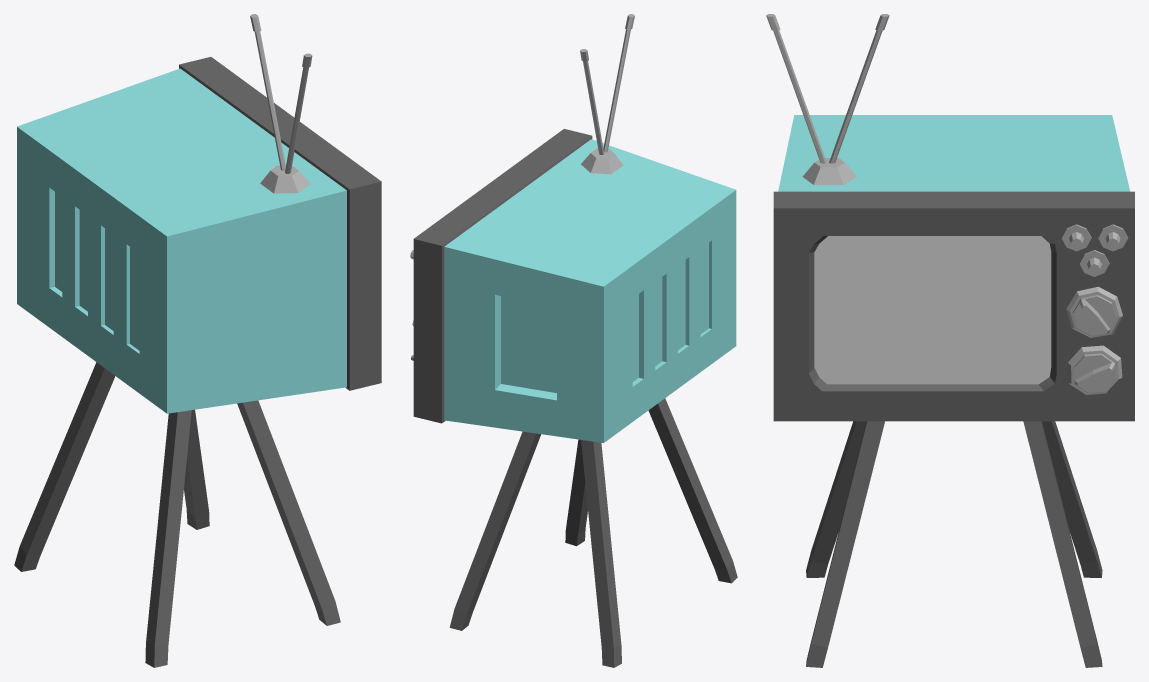
File: 4 monitor.fbx
3 views of the same model, side by side, from view 1: azimuth 30°, elevation 25°; view 2: azimuth 150°, elevation 25°; view 3: azimuth 270°, elevation 25° (orthographic). The views are drawn at different scales.
Visible parts, largest first — view 1: Cube; view 2: Cube; view 3: Cube.
Part boxes in pixels (bbox=[...]): Cube: bbox=[14, 14, 381, 667]; Cube: bbox=[410, 14, 737, 667]; Cube: bbox=[766, 14, 1134, 667].
Size of the model in its own units: 165 by 410 by 219.
